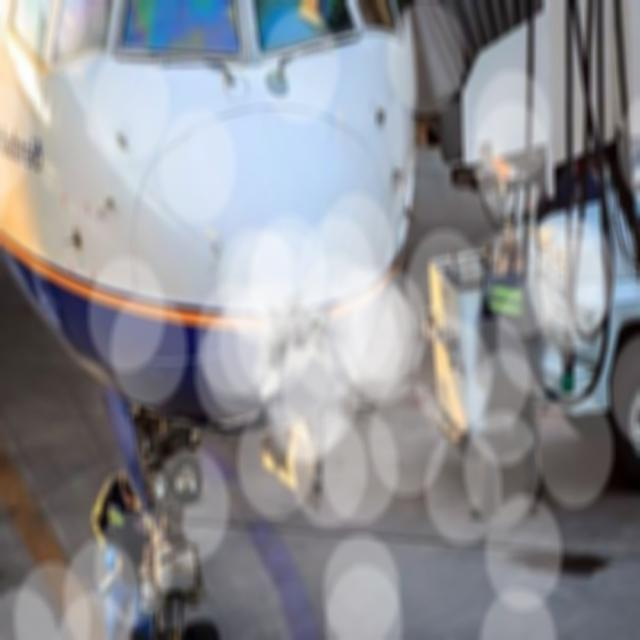crack: (264, 293, 336, 386)
